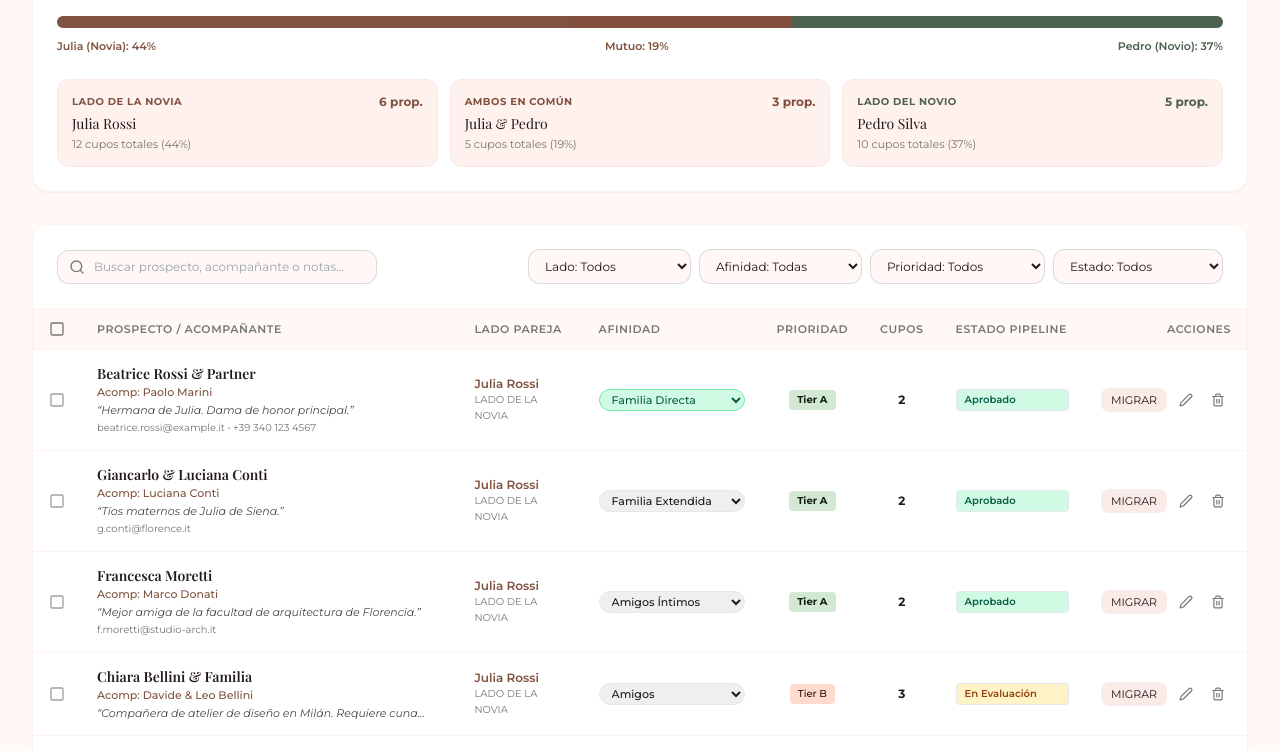
Prospects to Guests Module & Migration Pipeline Test Suite › Admin Prospects Subpage UI Integration › updates affinity easily in batch for selected prospects
(page scrolled)
# Select first row
Click the button without text below "Beatrice Rossi & Partner": (57, 400) [49,392,65,408]
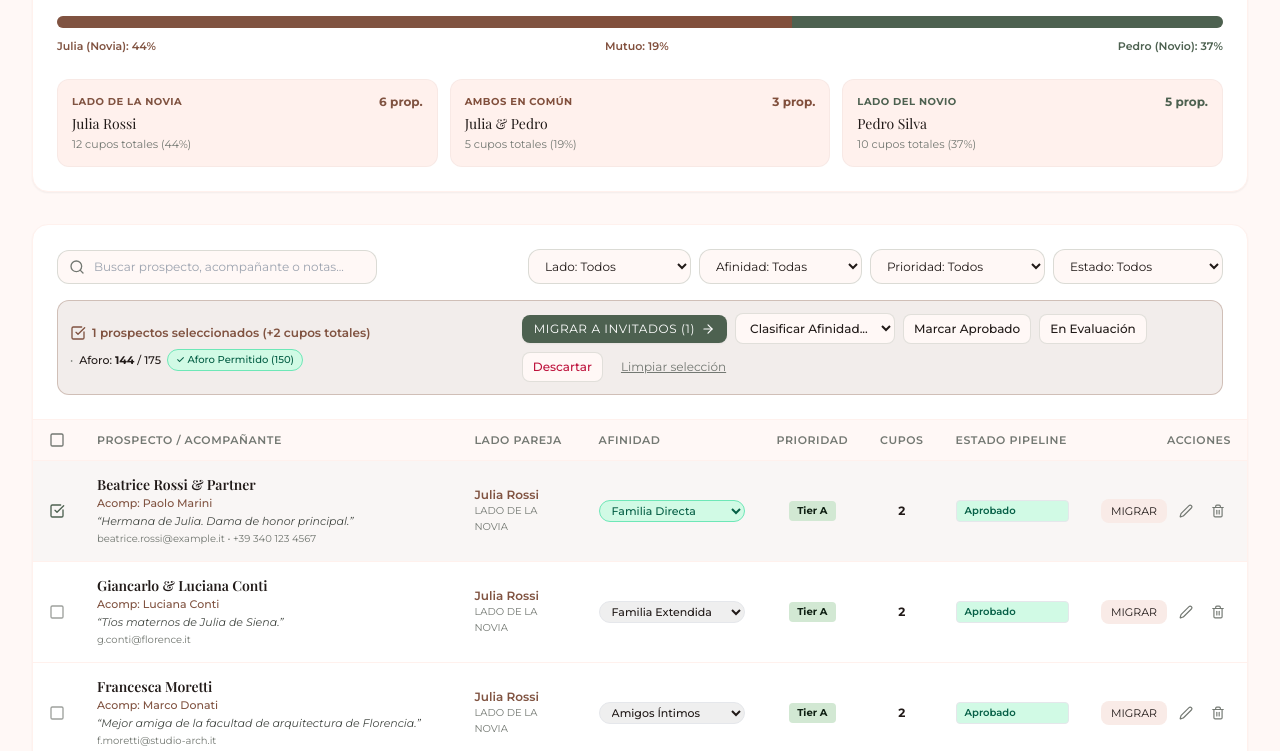
Now the dropdown named "Clasificar afinidad en lote" is shown
# Change affinity in batch to 'vip'
Select "VIP / Corte Nupcial" in the dropdown named "Clasificar afinidad en lote": (815, 328) [735,313,895,344]
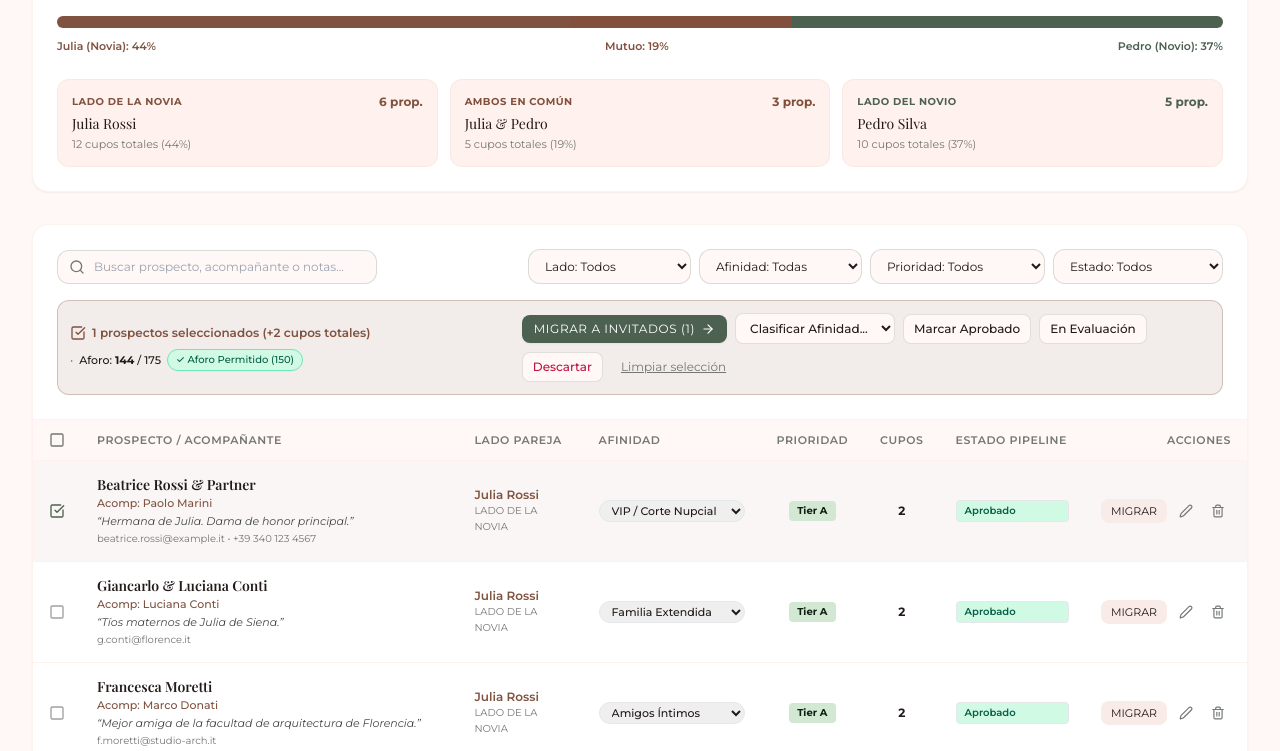
Now the dropdown named "Cambiar afinidad de" shows "VIP / Corte Nupcial", box [599,500,745,522]
